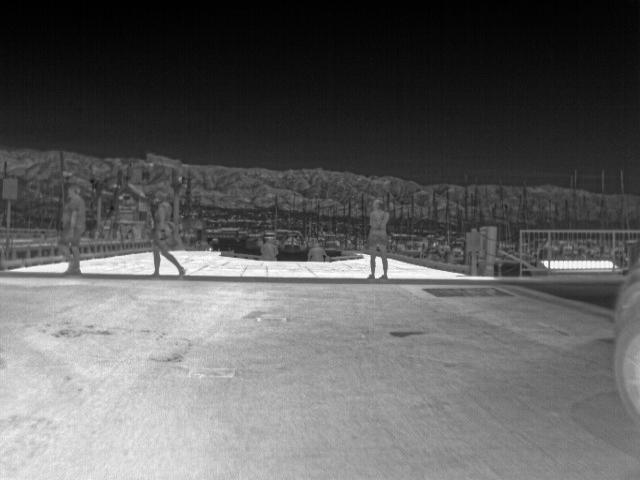car: (605, 268, 637, 416)
person: (150, 198, 186, 276), (363, 198, 394, 279), (60, 183, 83, 274), (259, 235, 278, 261), (307, 241, 329, 262)
